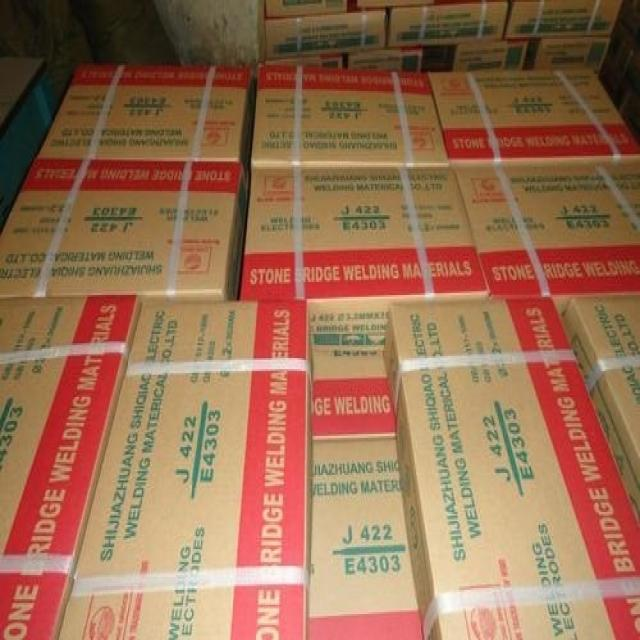Carton: (1, 291, 307, 636), (247, 59, 639, 295), (392, 297, 639, 638), (0, 61, 246, 293)
